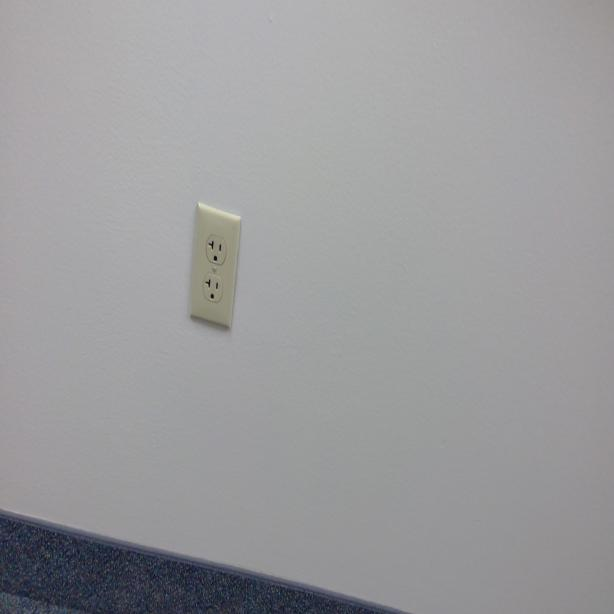typeb: (204, 232, 226, 266), (202, 274, 223, 304)
